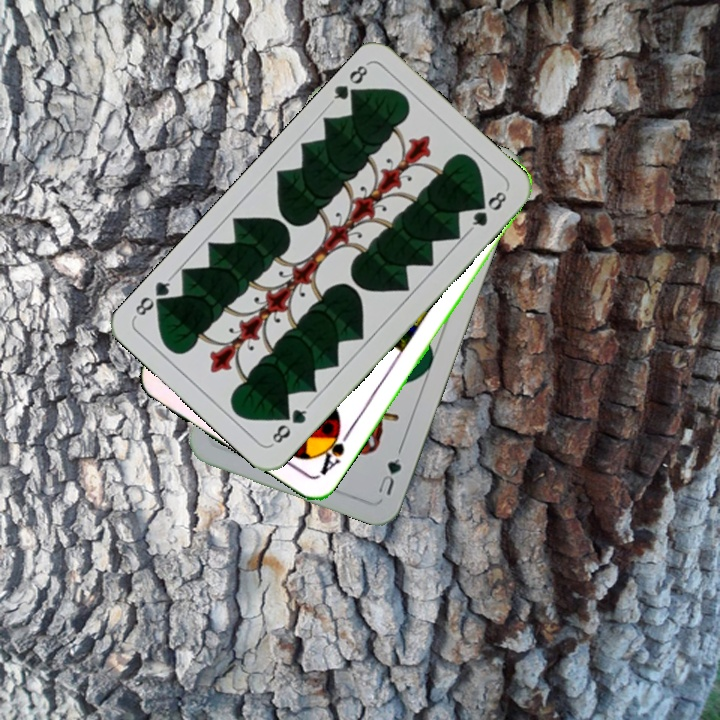G8: (267, 400, 312, 448), (326, 59, 371, 107)
GU: (374, 444, 405, 498)
SA: (313, 422, 353, 479)
